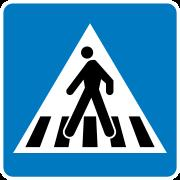Pedestrian Crossing: (13, 9, 169, 167)
